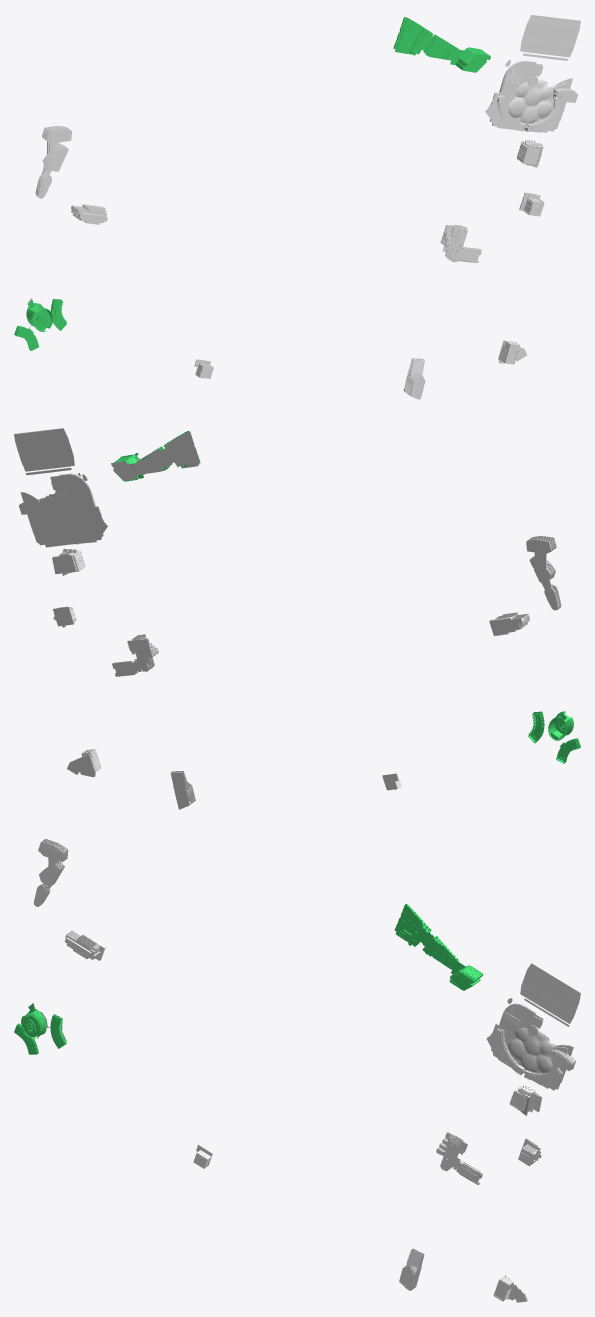
3 renders of one model, top to bottom at view 1: azimuth 30°, elevation 25°; view 2: azimuth 150°, elevation 25°; view 3: azimuth 330°, elevation 25°, orthographic.
Size of the model in its own units: 7853 by 5055 by 311.
